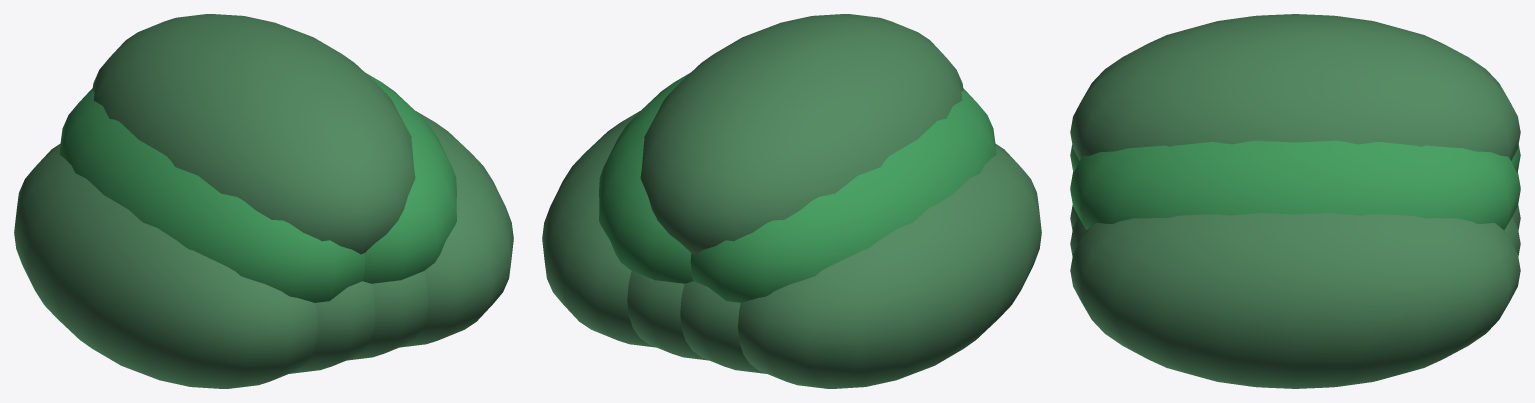
Rendered from Bush 2 colored.fbx.
3 renders of one model, left to right at view 1: azimuth 30°, elevation 25°; view 2: azimuth 150°, elevation 25°; view 3: azimuth 270°, elevation 25°, orthographic.
Visible parts, largest first — view 1: Top, Left_base_D3, Left_Middle, Right_Base, Right_Middle, ML_Base, MR_Base; view 2: Top, Left_base_D3, Left_Middle, Right_Base, Right_Middle, ML_Base, MR_Base; view 3: Right_Base, Top, Right_Middle, MR_Base.
Boxes of the visible parts, x1,y1,x2,y2 form: Top: (92,14,415,254); Left_base_D3: (14,143,317,388); Left_Middle: (59,88,365,302); Right_Base: (400,111,513,347); Right_Middle: (362,72,456,283); ML_Base: (289,281,375,373); MR_Base: (347,271,428,360); Top: (640,14,963,254); Left_base_D3: (738,143,1041,388); Left_Middle: (690,88,996,302); Right_Base: (542,111,655,347); Right_Middle: (599,72,693,283); ML_Base: (680,281,766,373); MR_Base: (627,271,708,360); Right_Base: (1070,213,1520,388); Top: (1070,14,1520,160); Right_Middle: (1070,140,1520,229); MR_Base: (1070,217,1520,256).
Bounding box in the file's own units: 2.15 × 1.45 × 2.
